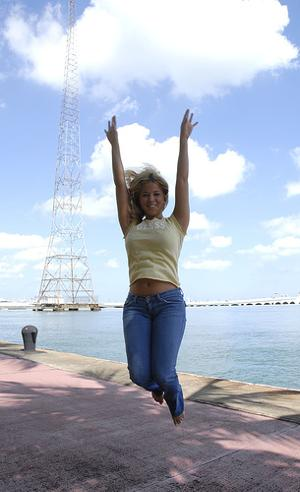person: (106, 104, 197, 430)
